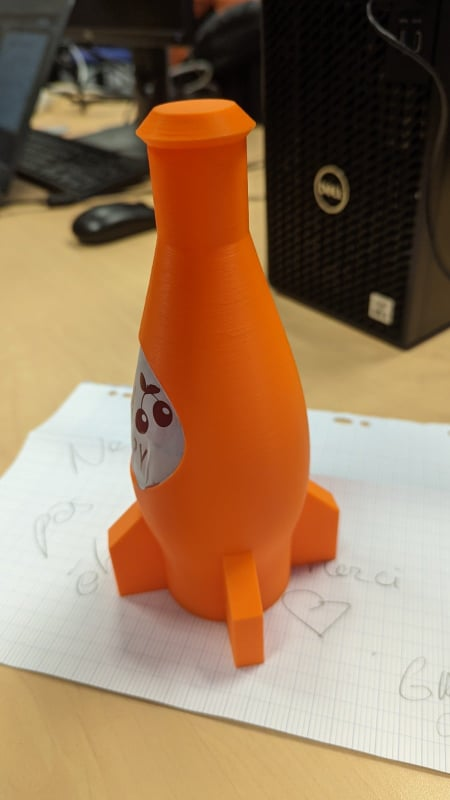bottle: (92, 91, 347, 674)
